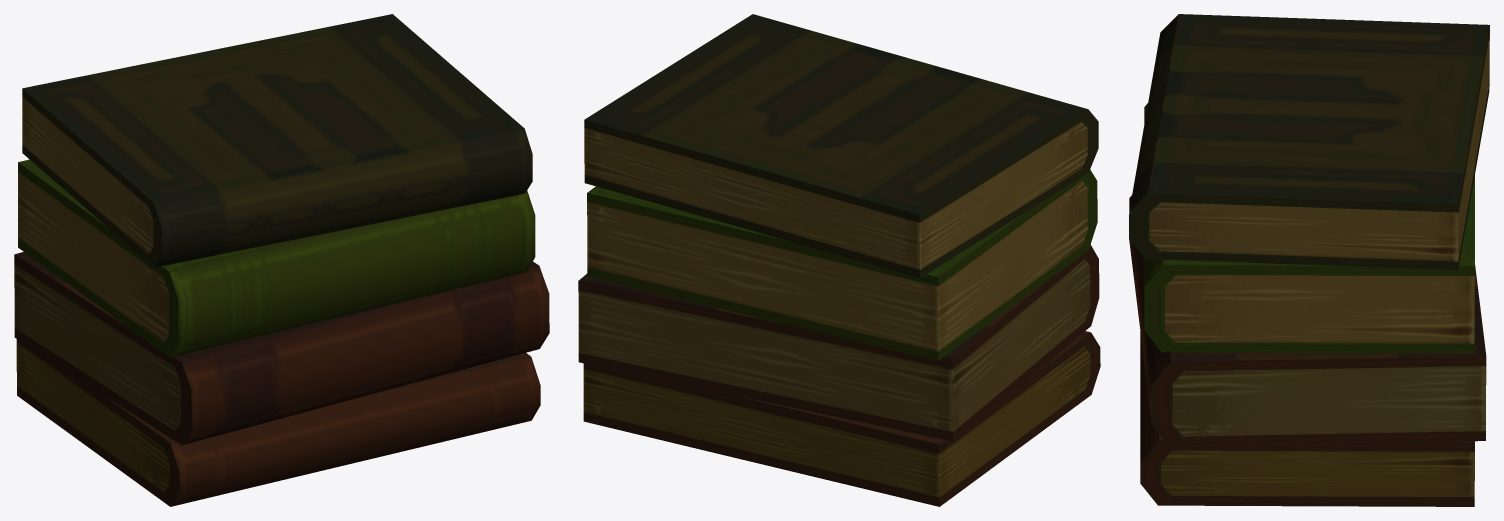
File: Book_Stack_1.glb
3 views of the same model, side by side, from view 1: azimuth 30°, elevation 25°; view 2: azimuth 150°, elevation 25°; view 3: azimuth 270°, elevation 25° (orthographic). The views are drawn at different scales.
Parts seen in each view (by area): view 1: Book_Stack_1; view 2: Book_Stack_1; view 3: Book_Stack_1.
Part boxes in pixels (x1,y1,x2,y2): Book_Stack_1: (14,14,549,506); Book_Stack_1: (578,14,1100,506); Book_Stack_1: (1129,14,1489,506).
Size of the model in its own units: 0.2849 by 0.2137 by 0.2263.
Materials: 1 (1 with a texture image).
